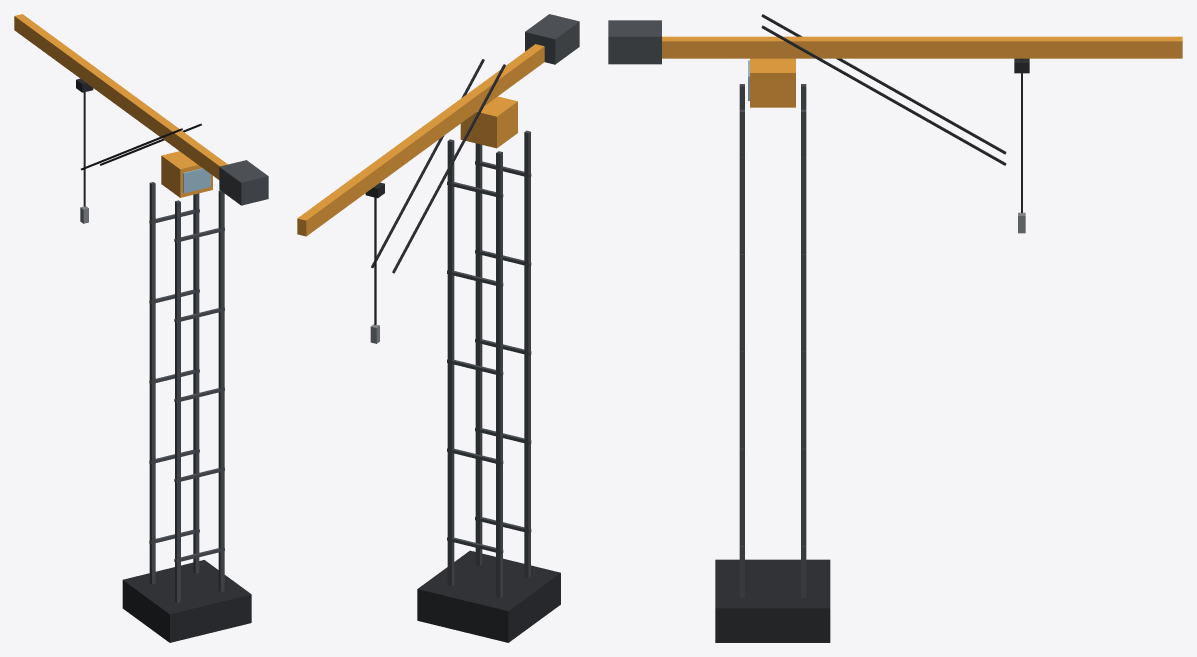
File: prop.construction-crane.glb
3 renders of one model, left to right at view 1: azimuth 30°, elevation 25°; view 2: azimuth 150°, elevation 25°; view 3: azimuth 270°, elevation 25°, orthographic. The views are drawn at different scales.
Parts seen in each view (by area): view 1: prop.construction-crane; view 2: prop.construction-crane; view 3: prop.construction-crane.
Boxes of the visible parts, bbox=[...] form: prop.construction-crane: bbox=[14, 14, 268, 642]; prop.construction-crane: bbox=[297, 14, 579, 642]; prop.construction-crane: bbox=[608, 14, 1182, 642].
Bounding box in the file's own units: 3 × 17.24 × 15.
